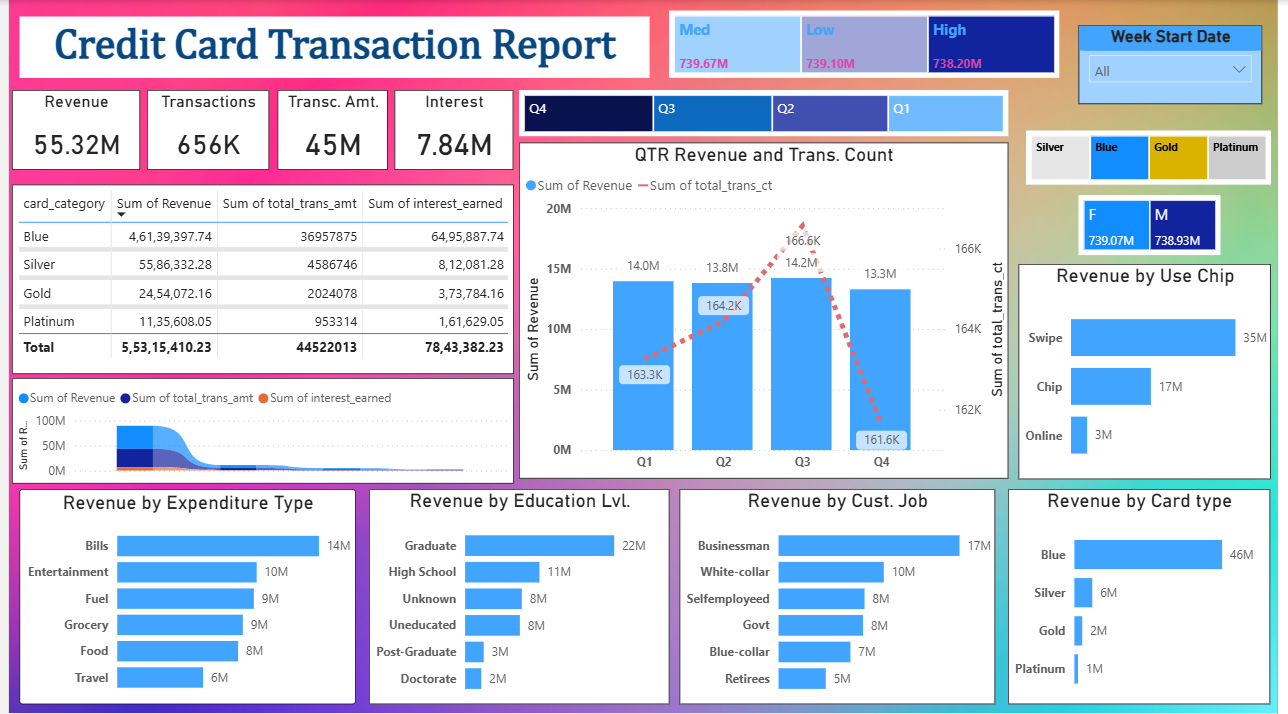

What the dashboard file says about the page in this screenshot:
{"tool":"powerbi","page":{"name":"CC Transc. ","canvas":[1280,720],"ordinal":0},"visuals":[{"type":"textbox","box":[10.1,16.8,636.3,62],"z":0},{"type":"lineStackedColumnComboChart","title":"QTR Revenue and Trans. Count","fields":{"Category":["public cc_detail.qtr"],"Y":["Sum(public cc_detail.Revenue)"],"Y2":["Sum(public cc_detail.total_trans_ct)"]},"box":[514.8,143.4,493.8,339.5],"z":1000},{"type":"barChart","title":"Revenue by Expenditure Type","fields":{"Y":["Sum(public cc_detail.Revenue)"],"Category":["public cc_detail.exp_type"]},"box":[10.1,493,339.5,217.1],"z":2000},{"type":"barChart","title":"Revenue by Education Lvl.","fields":{"Y":["Sum(public cc_detail.Revenue)"],"Category":["public cust_detail.education_level"]},"box":[363,493,303.5,217.1],"z":3000},{"type":"barChart","title":"Revenue by Cust. Job","fields":{"Y":["Sum(public cc_detail.Revenue)"],"Category":["public cust_detail.customer_job"]},"box":[677.4,493,318.6,217.1],"z":4000},{"type":"barChart","title":"Revenue by Card type","fields":{"Y":["Sum(public cc_detail.Revenue)"],"Category":["public cc_detail.card_category"]},"box":[1008.5,493,264.9,217.1],"z":5000},{"type":"barChart","title":"Revenue by Use Chip","fields":{"Y":["Sum(public cc_detail.Revenue)"],"Category":["public cc_detail.use_chip"]},"box":[1018.6,265.8,254.9,217.1],"z":6000},{"type":"tableEx","fields":{"Values":["public cc_detail.card_category","Sum(public cc_detail.Revenue)","Sum(public cc_detail.total_trans_amt)","Sum(public cc_detail.interest_earned)"]},"box":[3.4,186.1,506.4,191.1],"z":7000},{"type":"cardVisual","title":"Revenue","fields":{"Data":["Sum(public cc_detail.Revenue)"]},"box":[3.4,91.4,129.1,80.5],"z":8000},{"type":"cardVisual","title":"Transactions","fields":{"Data":["Sum(public cc_detail.total_trans_ct)"]},"box":[140,91.4,123.2,80.5],"z":9000},{"type":"cardVisual","title":"Interest","fields":{"Data":["Sum(public cc_detail.interest_earned)"]},"box":[389.8,91.4,119.9,80.5],"z":10000},{"type":"cardVisual","title":"Transc. Amt.","fields":{"Data":["Sum(public cc_detail.total_trans_amt)"]},"box":[270.8,91.4,111.5,80.5],"z":11000},{"type":"slicer","title":"Week Start Date","fields":{"Values":["public cc_detail.week_start_date"]},"box":[1079,26,185.3,79.6],"z":12000},{"type":"treemap","fields":{"Values":["Avg(public cc_detail.client_num)"],"Group":["public cc_detail.qtr"]},"box":[514.8,91.4,493.8,46.9],"z":13000},{"type":"treemap","fields":{"Values":["Avg(public cc_detail.client_num)"],"Group":["public cust_detail.gender"]},"box":[1079,196.2,143.4,60.4],"z":14000},{"type":"treemap","fields":{"Values":["Avg(public cc_detail.client_num)"],"Group":["public cc_detail.card_category"]},"box":[1026.1,131.6,247.3,54.5],"z":15000},{"type":"treemap","fields":{"Values":["Avg(public cc_detail.client_num)"],"Group":["public cust_detail.IncomeGroup"]},"box":[666.5,10.9,394,67.9],"z":16000},{"type":"ribbonChart","fields":{"Category":["public cc_detail.card_category"],"Y":["Sum(public cc_detail.Revenue)","Sum(public cc_detail.total_trans_amt)","Sum(public cc_detail.interest_earned)"]},"box":[3.4,381.5,506.4,106.5],"z":17000}]}

Visuals, with their boxes in screenshot pixels (x1, y1, x2, y2), scaled from the page's 1280x720 canvas onto the 1288x714 screenshot:
textbox: 10, 17, 650, 78
"QTR Revenue and Trans. Count" lineStackedColumnComboChart: 518, 142, 1015, 479
"Revenue by Expenditure Type" barChart: 10, 489, 352, 704
"Revenue by Education Lvl." barChart: 365, 489, 671, 704
"Revenue by Cust. Job" barChart: 682, 489, 1002, 704
"Revenue by Card type" barChart: 1015, 489, 1281, 704
"Revenue by Use Chip" barChart: 1025, 264, 1281, 479
tableEx - public cc_detail.card_category x Sum(public cc_detail.Revenue): 3, 185, 513, 374
"Revenue" cardVisual: 3, 91, 133, 170
"Transactions" cardVisual: 141, 91, 265, 170
"Interest" cardVisual: 392, 91, 513, 170
"Transc. Amt." cardVisual: 272, 91, 385, 170
"Week Start Date" slicer: 1086, 26, 1272, 105
treemap - Avg(public cc_detail.client_num) x public cc_detail.qtr: 518, 91, 1015, 137
treemap - Avg(public cc_detail.client_num) x public cust_detail.gender: 1086, 195, 1230, 254
treemap - Avg(public cc_detail.client_num) x public cc_detail.card_category: 1033, 131, 1281, 185
treemap - Avg(public cc_detail.client_num) x public cust_detail.IncomeGroup: 671, 11, 1067, 78
ribbonChart - public cc_detail.card_category x Sum(public cc_detail.Revenue): 3, 378, 513, 484
